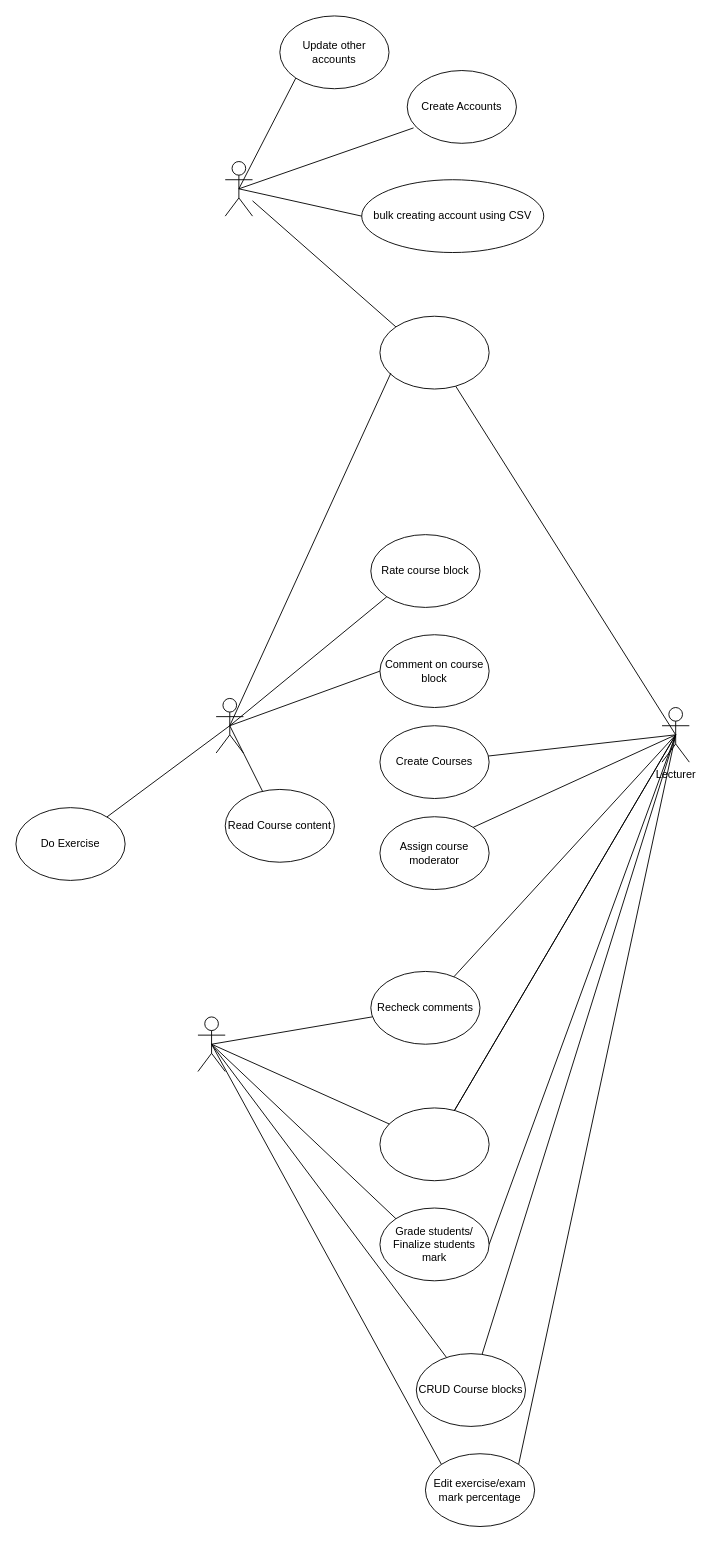
The diagram is 712 pixels wide and 1542 high, and some of its shapes have lost their labels. Each missing label, with the centre of its shape:
Add/Remove students: the point at 434,1144
Admin: the point at 238,188
Course Mod: the point at 211,1044
Student: the point at 229,725
Update Owned Account: the point at 434,352
